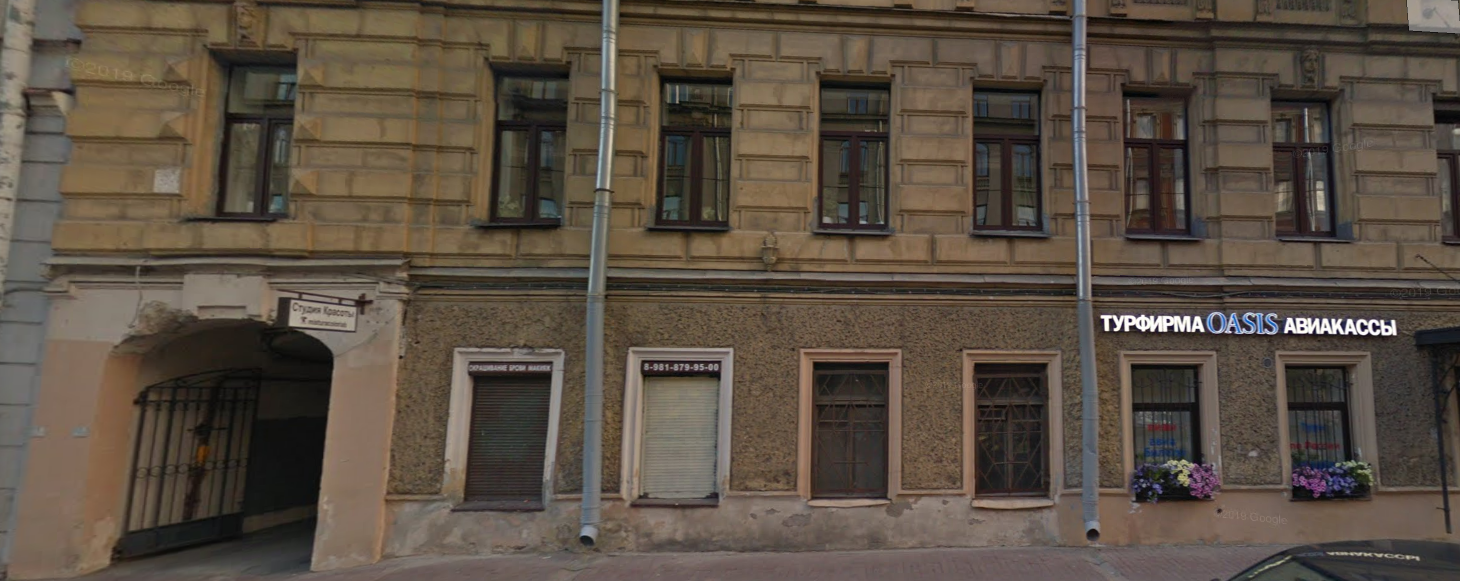arch: (76, 312, 335, 576)
cantilever: (278, 286, 376, 336)
signboard: (1098, 300, 1405, 340)
window: (477, 68, 563, 232), (208, 61, 296, 214), (459, 361, 554, 502), (812, 79, 896, 235), (651, 73, 729, 227), (634, 364, 716, 504), (807, 365, 886, 502), (970, 86, 1041, 238), (1123, 85, 1191, 239), (974, 367, 1049, 501), (1277, 91, 1339, 241), (1125, 361, 1203, 475), (1285, 365, 1354, 469)
